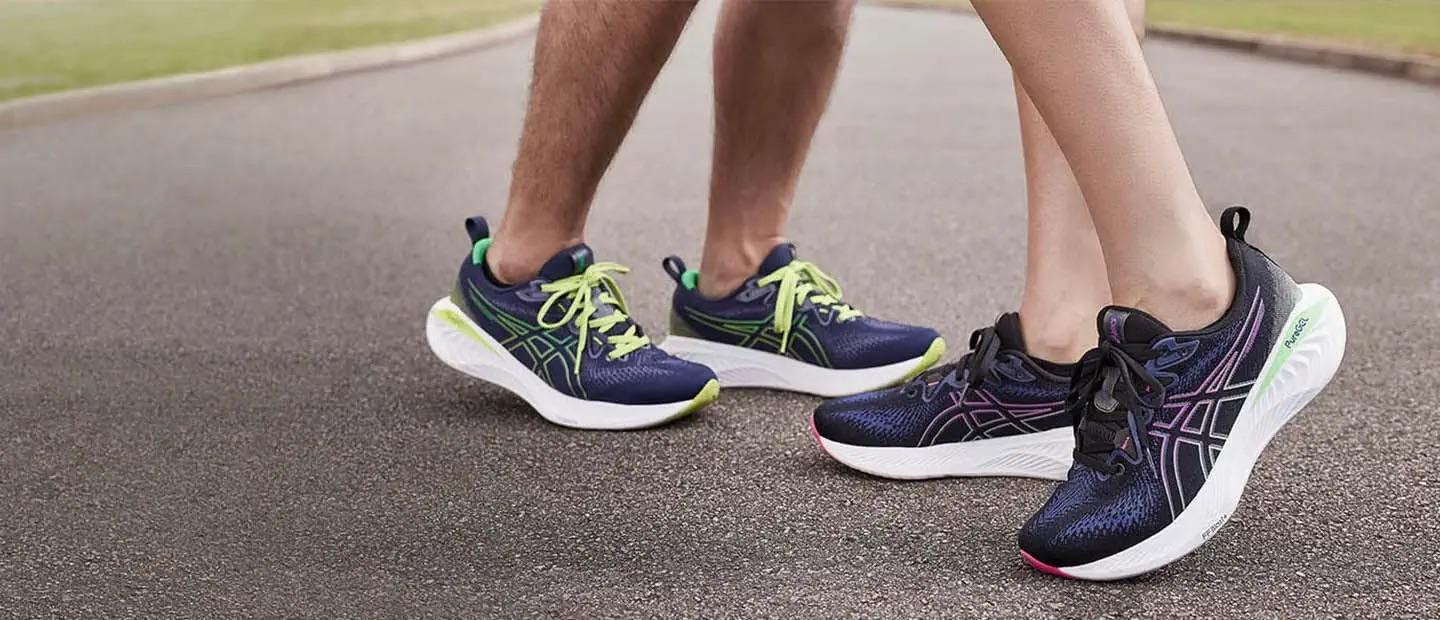asics logo: (1131, 267, 1282, 536), (464, 279, 599, 405), (908, 382, 1063, 451), (689, 304, 839, 372)
